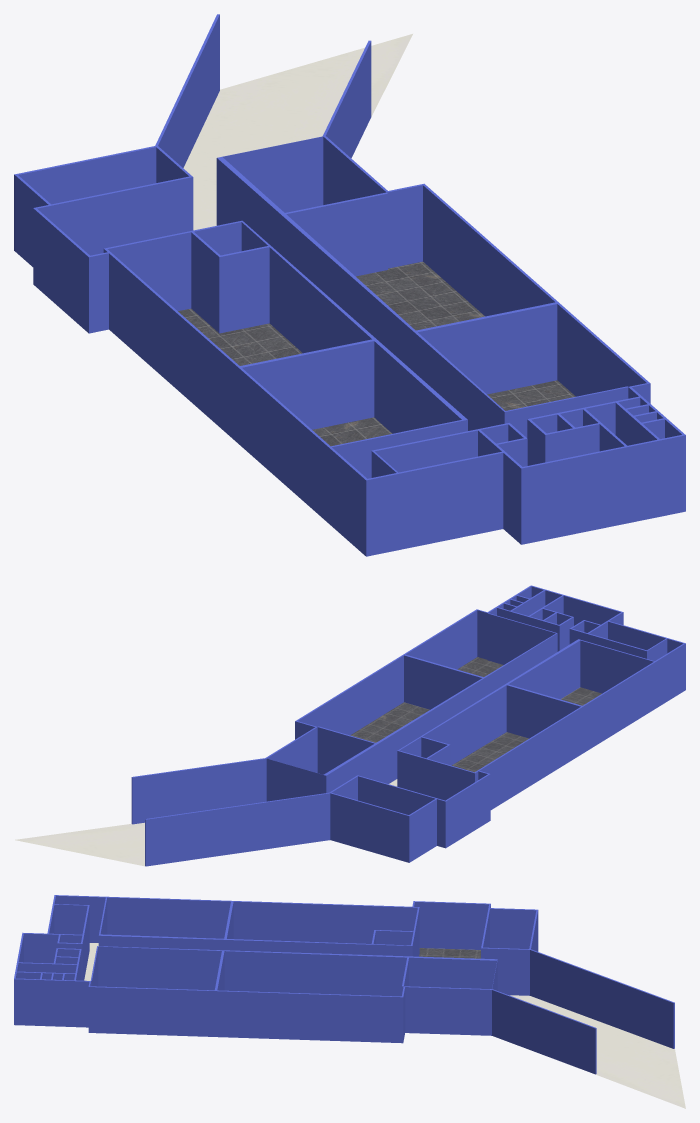
The picture shows the model from 3 angles, top to bottom: view 1: azimuth 30°, elevation 25°; view 2: azimuth 150°, elevation 25°; view 3: azimuth 270°, elevation 25°; orthographic projection. The views are drawn at different scales.
Parts seen in each view (by area): view 1: Walls, Mesh20.002, Travel Studio, Alif Crae, class1, Bolt & Volt Room; view 2: Walls, Mesh20.002, Travel Studio, Alif Crae, class1; view 3: Walls, Mesh20.002, Mesh6.
Part boxes in pixels (box(x1,y1,x2,y2)): Walls: box(14, 14, 685, 556); Mesh20.002: box(183, 34, 412, 229); Travel Studio: box(356, 261, 484, 330); Alif Crae: box(178, 308, 302, 365); class1: box(487, 380, 575, 410); Bolt & Volt Room: box(312, 417, 392, 446); Walls: box(131, 585, 685, 866); Mesh20.002: box(15, 822, 145, 866); Travel Studio: box(350, 702, 429, 742); Alif Crae: box(452, 732, 528, 772); class1: box(457, 657, 503, 676); Walls: box(14, 895, 674, 1074); Mesh20.002: box(519, 996, 685, 1108); Mesh6: box(419, 948, 480, 958).
Bounding box in the file's own units: 6.99 × 0.8924 × 11.82.
4 materials, 3 textured.
